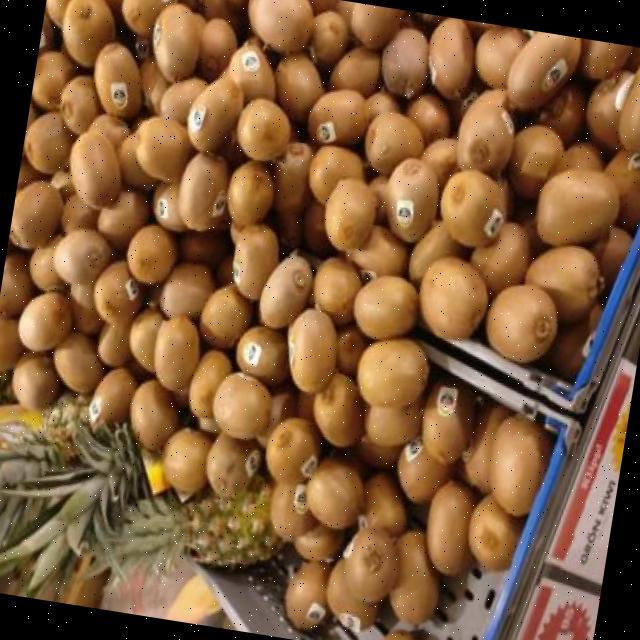kiwi: (420, 254, 557, 359), (386, 161, 505, 246), (228, 38, 292, 161), (548, 275, 613, 379), (536, 167, 621, 244), (153, 153, 230, 229), (506, 30, 584, 105), (526, 243, 601, 318), (357, 336, 433, 410), (457, 86, 518, 176), (490, 420, 546, 518), (186, 68, 247, 155), (428, 478, 481, 576), (287, 305, 343, 396), (266, 413, 331, 491), (389, 528, 442, 623), (409, 218, 474, 295), (122, 0, 206, 59), (54, 225, 121, 297), (275, 50, 327, 141), (324, 176, 383, 255), (345, 524, 404, 603), (469, 493, 525, 574), (537, 75, 601, 145), (395, 435, 459, 505), (135, 114, 199, 183), (422, 382, 477, 462), (314, 371, 371, 448), (259, 254, 316, 329), (94, 42, 148, 121), (162, 424, 220, 497), (311, 88, 379, 150), (366, 109, 428, 177), (271, 456, 319, 543), (153, 314, 205, 394), (213, 371, 274, 439), (18, 290, 82, 353), (9, 349, 74, 411), (307, 461, 367, 528), (474, 220, 532, 289), (234, 222, 283, 303), (188, 347, 237, 428), (356, 275, 418, 339), (333, 0, 411, 50), (293, 508, 361, 565), (201, 281, 255, 352), (70, 131, 121, 206), (96, 189, 156, 252), (311, 7, 356, 91), (127, 221, 184, 287), (206, 433, 264, 497), (315, 256, 368, 326), (284, 560, 334, 634), (365, 470, 424, 532), (587, 68, 635, 144), (309, 146, 369, 206), (429, 19, 476, 95), (131, 380, 182, 450), (62, 0, 116, 66), (227, 160, 278, 229), (348, 221, 414, 274), (11, 182, 66, 245), (24, 111, 78, 175), (53, 331, 110, 391), (381, 27, 429, 98), (475, 27, 530, 88), (236, 322, 290, 384), (326, 558, 379, 621), (158, 261, 216, 318), (250, 0, 314, 51), (157, 8, 205, 76), (595, 224, 638, 295), (197, 17, 243, 83), (327, 45, 384, 96), (368, 397, 426, 447), (607, 148, 640, 234), (276, 141, 315, 213), (94, 258, 135, 326), (32, 51, 81, 107), (128, 304, 166, 374), (99, 324, 151, 375), (514, 130, 567, 180), (92, 368, 140, 422), (465, 406, 496, 488), (121, 129, 160, 193), (61, 167, 97, 233), (161, 76, 208, 126), (29, 231, 68, 291), (305, 199, 346, 255), (404, 91, 452, 138), (587, 39, 638, 82), (70, 281, 107, 339), (0, 255, 35, 307), (619, 69, 640, 152), (338, 328, 371, 380), (60, 75, 89, 133), (141, 56, 171, 112), (556, 141, 607, 173), (272, 209, 306, 251), (179, 230, 223, 262), (356, 439, 400, 470), (423, 136, 459, 171), (0, 315, 24, 366), (99, 113, 132, 150), (268, 393, 300, 428), (46, 0, 78, 29), (216, 255, 234, 282), (387, 627, 419, 640), (299, 392, 315, 415), (205, 0, 231, 12)
